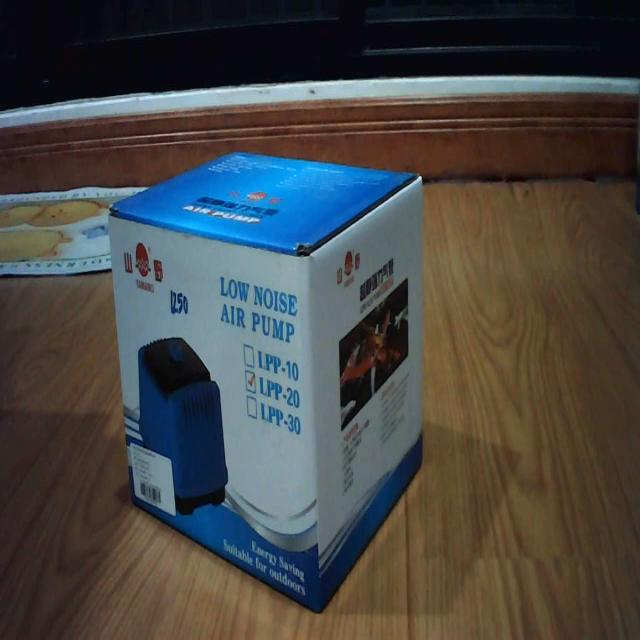YAMANO_LPP_20: (104, 130, 444, 625)
